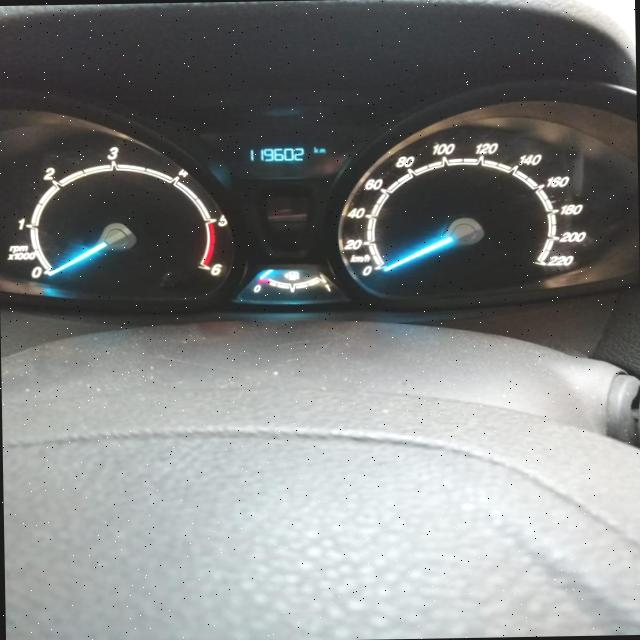odometer: (210, 136, 353, 182)
